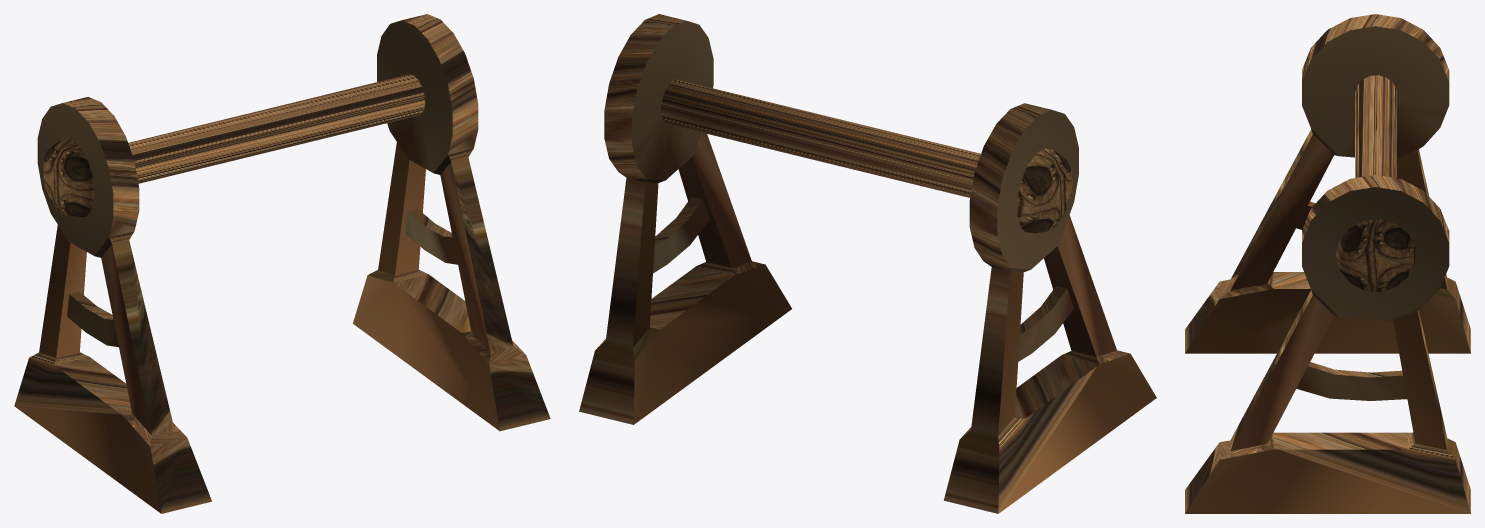
3 renders of one model, left to right at view 1: azimuth 30°, elevation 25°; view 2: azimuth 150°, elevation 25°; view 3: azimuth 270°, elevation 25°, orthographic. The views are drawn at different scales.
Visible parts, largest first — view 1: base; view 2: base; view 3: base.
Boxes of the visible parts, left/top/right/bottom form: base: left=14, top=14, right=550, bottom=513; base: left=579, top=14, right=1156, bottom=513; base: left=1185, top=14, right=1470, bottom=513.
Size of the model in its own units: 5.82 by 4.53 by 3.65.
Materials: 1 (1 with a texture image).
